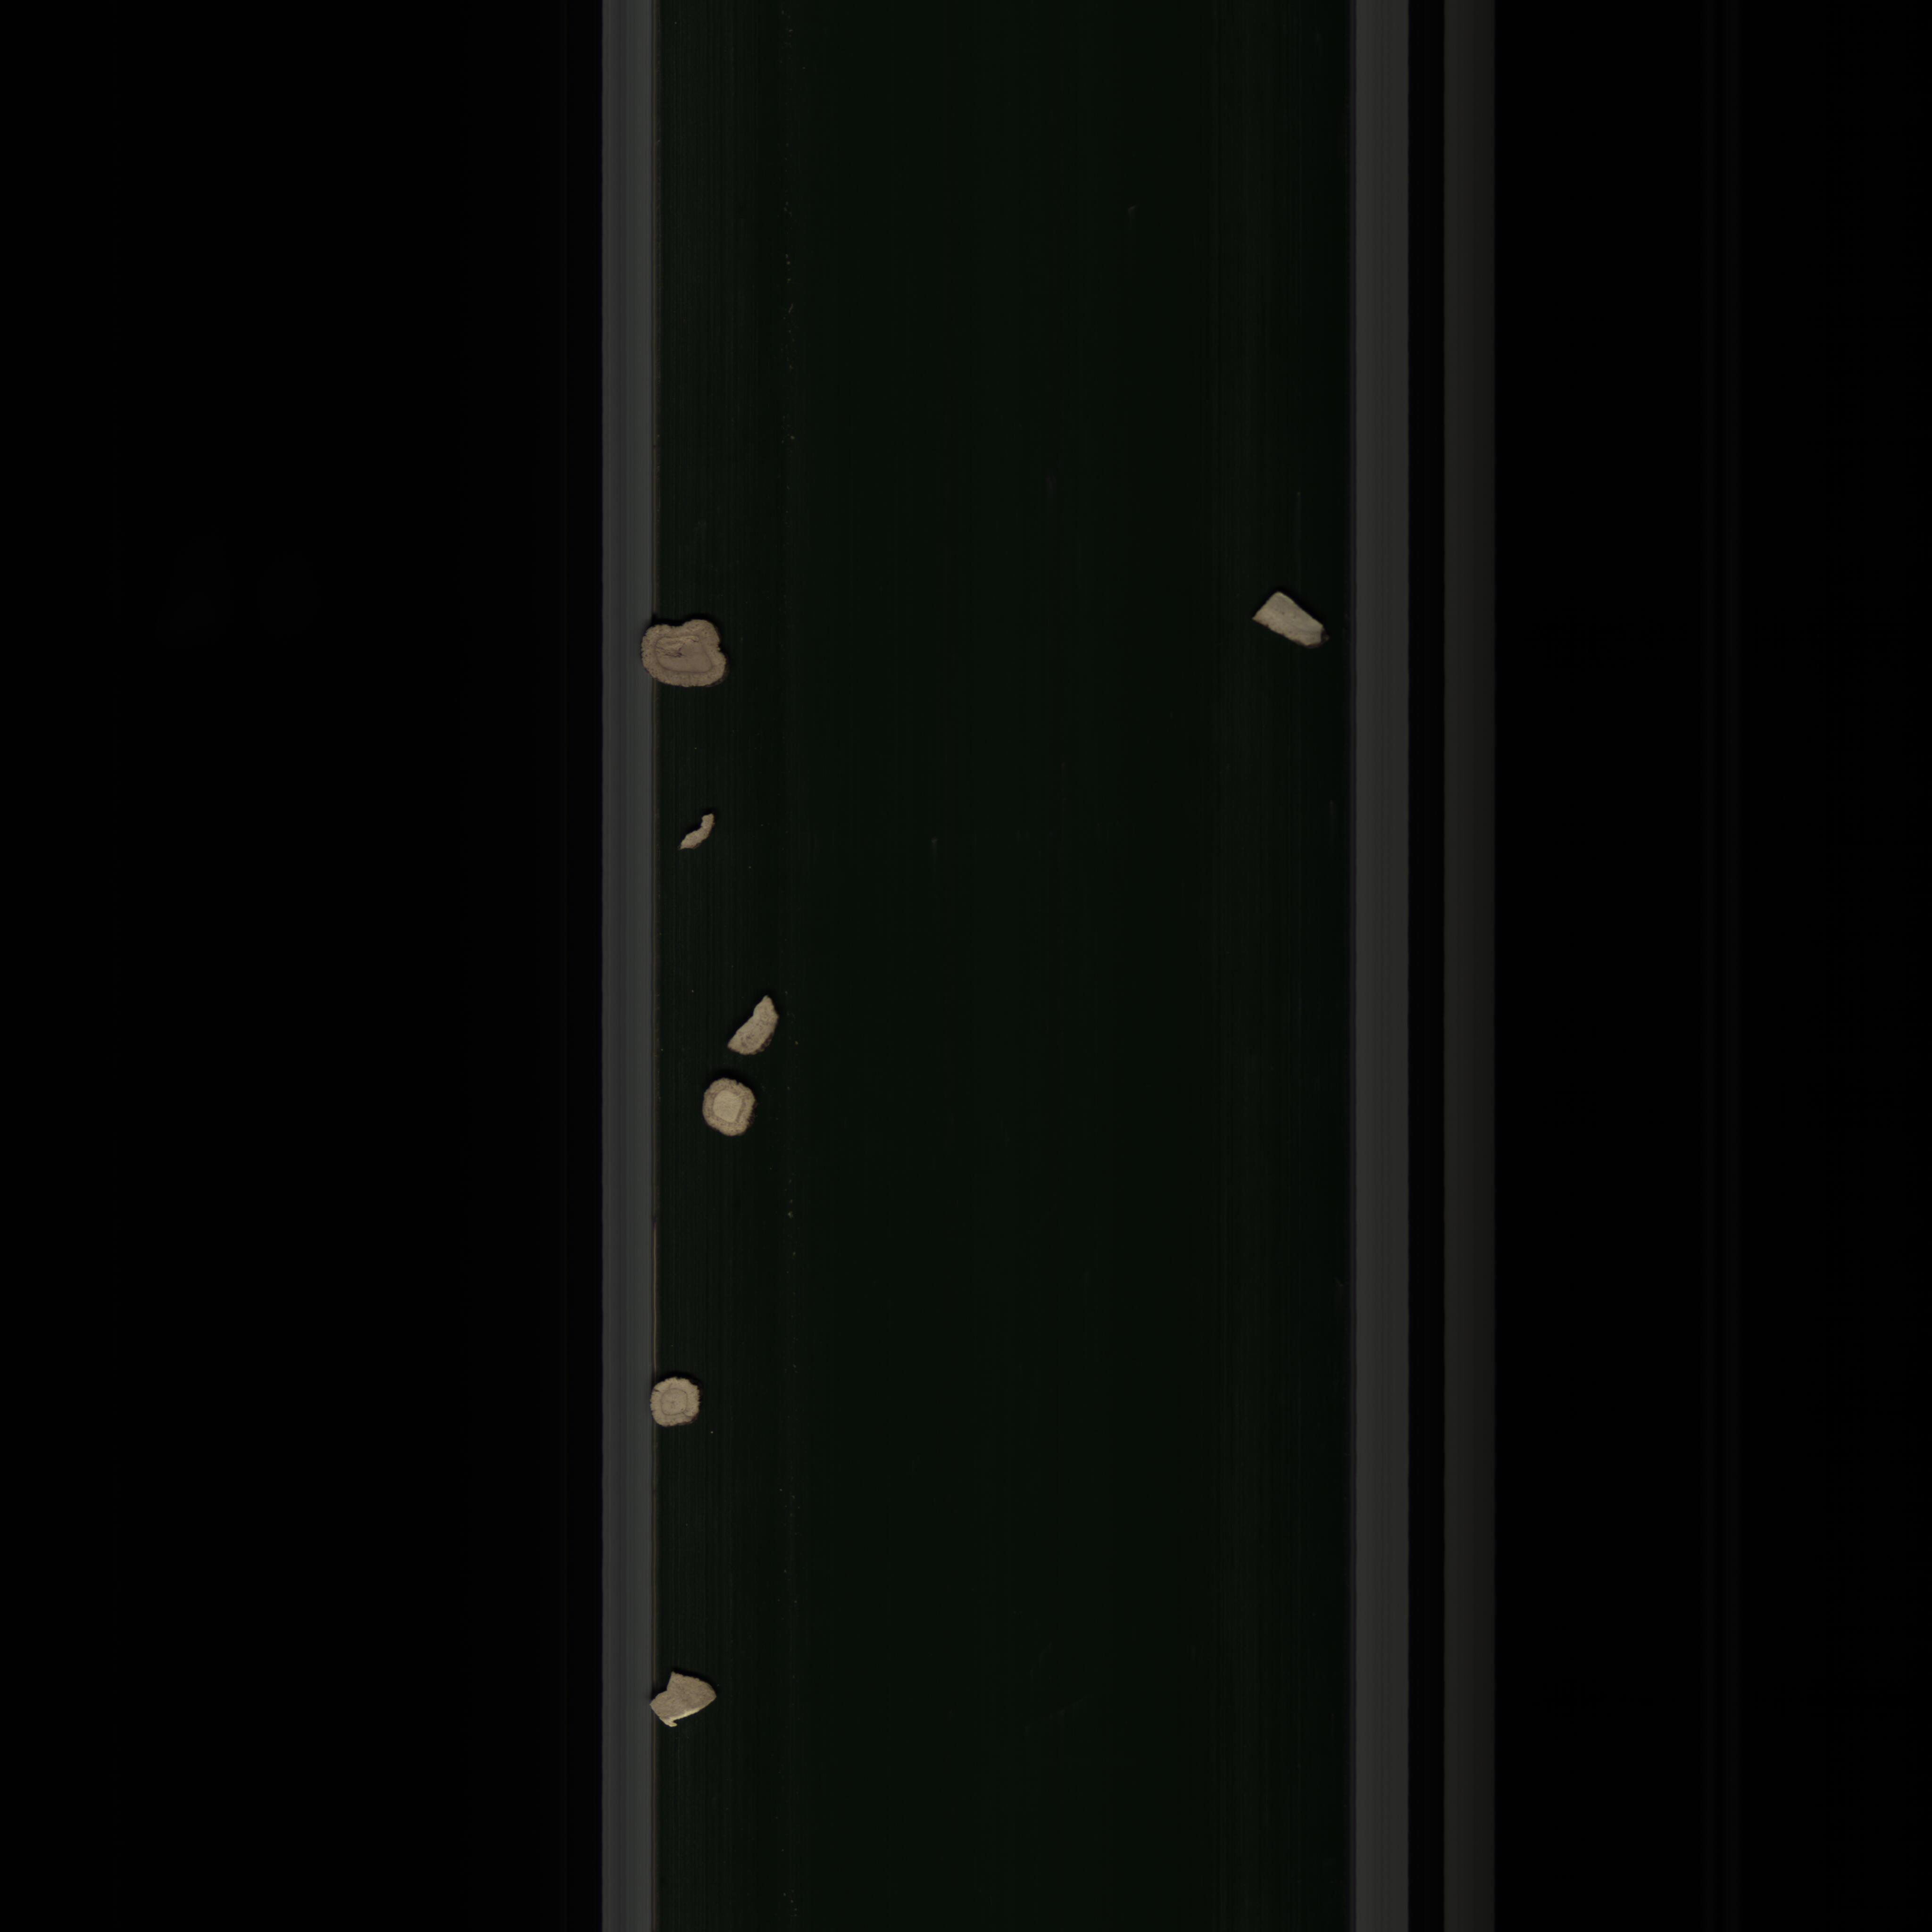bark: (678, 809, 729, 858)
debris: (1244, 587, 1334, 660), (644, 1661, 729, 1732), (722, 989, 794, 1062)
moldy: (633, 616, 741, 701)
